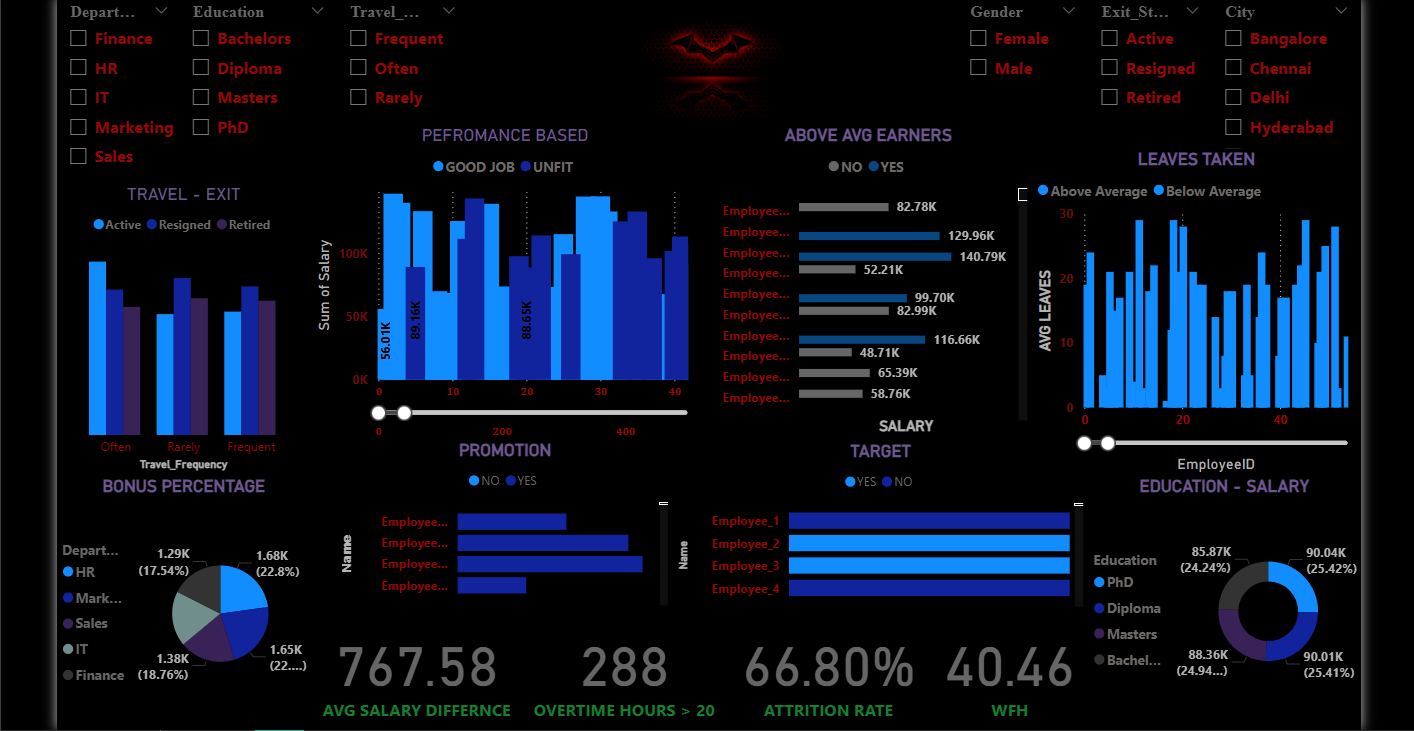

Layout of this report page (visuals, bound fields, positions):
{"tool":"powerbi","page":{"name":"Page 1","canvas":[1280,720],"ordinal":0},"visuals":[{"type":"slicer","fields":{"Values":["Sheet1.Department"]},"box":[0,0,121.5,182.8],"z":0},{"type":"slicer","fields":{"Values":["Sheet1.Education"]},"box":[120.2,0,154.6,148.5],"z":1000},{"type":"slicer","fields":{"Values":["Sheet1.City"]},"box":[1133.7,0,146,182.8],"z":2000},{"type":"slicer","fields":{"Values":["Sheet1.Exit_Status"]},"box":[1012.3,0,121.5,148.5],"z":3000},{"type":"slicer","fields":{"Values":["Sheet1.Travel_Frequency"]},"box":[274.8,0,128.8,125.2],"z":4000},{"type":"slicer","fields":{"Values":["Sheet1.Gender"]},"box":[883.4,0,128.8,125.2],"z":5000},{"type":"clusteredBarChart","title":"ABOVE AVG EARNERS","fields":{"Y":["Sum(Sheet1.Salary)"],"Series":["Sheet1.AVG EARNERS"],"Category":["Sheet1.Name"]},"box":[635.6,125.2,321.5,309.2],"z":6000},{"type":"card","fields":{"Values":["Sheet1.ATTRITION RATE"]},"box":[656.4,602.5,202.5,117.8],"z":7000},{"type":"pieChart","title":"BONUS PERCENTAGE ","fields":{"Category":["Sheet1.Department"],"Y":["Sum(Sheet1.BONUS PERCENTAGE)"]},"box":[0,469.9,249.1,250.3],"z":8000},{"type":"columnChart","title":"PEFROMANCE BASED","fields":{"Y":["Sum(Sheet1.Salary)"],"Series":["Sheet1.PEFROMANCE VS SALARY"],"Category":["Sheet1.EmployeeID"]},"box":[249.1,125.2,381.6,309.2],"z":9000},{"type":"card","fields":{"Values":["Sheet1.Measure 4"]},"box":[457.7,602.5,198.8,117.8],"z":10000},{"type":"card","fields":{"Values":["Sheet1.WFH"]},"box":[858.9,602.5,153.4,117.8],"z":11000},{"type":"donutChart","title":"EDUCATION  - SALARY","fields":{"Category":["Sheet1.Education"],"Y":["Avg(Sheet1.Salary)"]},"box":[1012.3,469.9,267.5,250.3],"z":12000},{"type":"hundredPercentStackedBarChart","title":" TARGET","fields":{"Category":["Sheet1.Name"],"Series":["Sheet1.TARGET"],"Y":["Sum(Sheet1.EmployeeID)"]},"box":[604.9,435.6,407.4,168.1],"z":13000},{"type":"clusteredColumnChart","title":"TRAVEL - EXIT","fields":{"Category":["Sheet1.Travel_Frequency"],"Series":["Sheet1.Exit_Status"],"Y":["Sum(Sheet1.Age)"]},"box":[0,182.8,249.1,287.1],"z":14000},{"type":"clusteredColumnChart","title":"LEAVES TAKEN","fields":{"Series":["Sheet1.bove_Avg_Leaves_Flag"],"Y":["Avg(Sheet1.Leaves_Taken)","select"],"Category":["Sheet1.EmployeeID"]},"box":[957.1,148.5,322.7,321.5],"z":15000},{"type":"card","fields":{"Values":["Sheet1.AVG SALARY DIFFERNCE"]},"box":[249.1,602.5,208.6,117.8],"z":16000},{"type":"barChart","title":"PROMOTION","fields":{"Category":["Sheet1.Name"],"Y":["Sum(Sheet1.Salary)"],"Series":["Sheet1.ELIGIBILITY"]},"box":[274.8,434.4,330.1,168.1],"z":17000},{"type":"image","box":[403.7,0,479.8,125.2],"z":18000}]}

Visuals, with their boxes on the page's 1280x720 design canvas (x1, y1, x2, y2). These are canvas units, not pixel positions in the 1414x731 screenshot, which may show the page scaled, cropped or inside an application window:
slicer - Sheet1.Department: l=0, t=0, r=122, b=183
slicer - Sheet1.Education: l=120, t=0, r=275, b=148
slicer - Sheet1.City: l=1134, t=0, r=1280, b=183
slicer - Sheet1.Exit_Status: l=1012, t=0, r=1134, b=148
slicer - Sheet1.Travel_Frequency: l=275, t=0, r=404, b=125
slicer - Sheet1.Gender: l=883, t=0, r=1012, b=125
"ABOVE AVG EARNERS" clusteredBarChart: l=636, t=125, r=957, b=434
card - Sheet1.ATTRITION RATE: l=656, t=602, r=859, b=720
"BONUS PERCENTAGE " pieChart: l=0, t=470, r=249, b=720
"PEFROMANCE BASED" columnChart: l=249, t=125, r=631, b=434
card - Sheet1.Measure 4: l=458, t=602, r=656, b=720
card - Sheet1.WFH: l=859, t=602, r=1012, b=720
"EDUCATION  - SALARY" donutChart: l=1012, t=470, r=1280, b=720
" TARGET" hundredPercentStackedBarChart: l=605, t=436, r=1012, b=604
"TRAVEL - EXIT" clusteredColumnChart: l=0, t=183, r=249, b=470
"LEAVES TAKEN" clusteredColumnChart: l=957, t=148, r=1280, b=470
card - Sheet1.AVG SALARY DIFFERNCE: l=249, t=602, r=458, b=720
"PROMOTION" barChart: l=275, t=434, r=605, b=602
image: l=404, t=0, r=884, b=125
